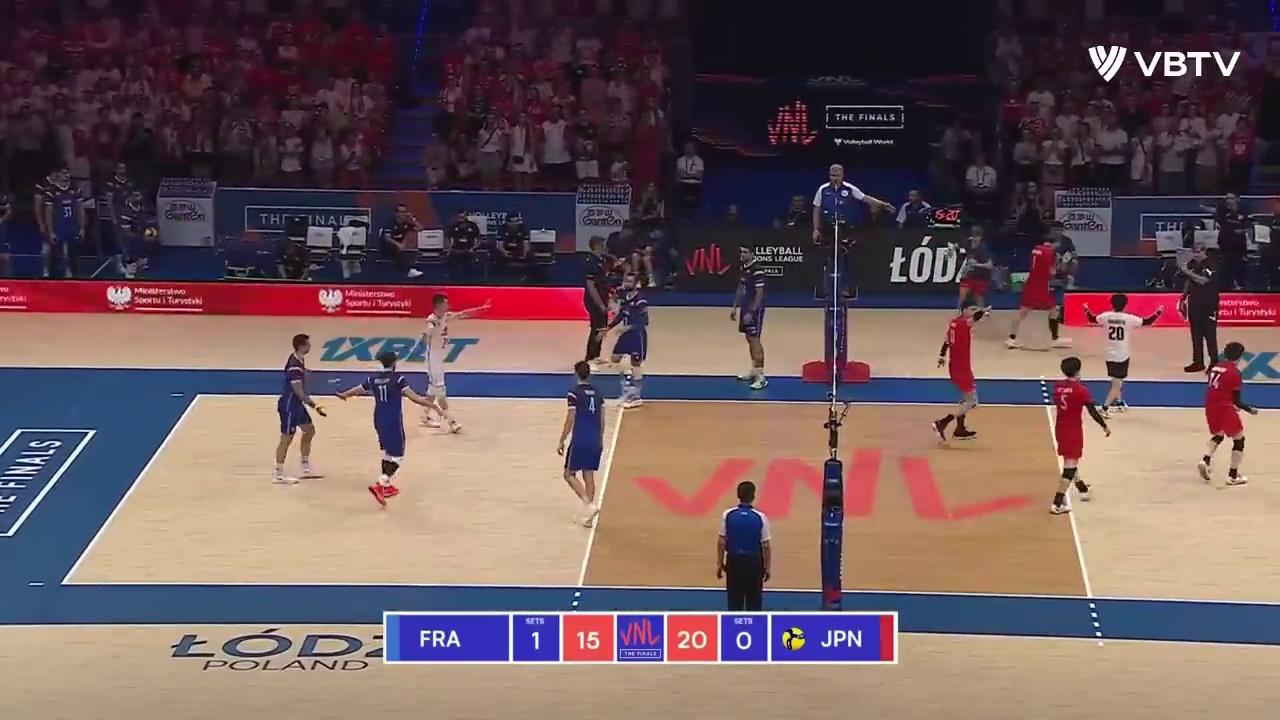ball: (143, 228, 157, 243)
